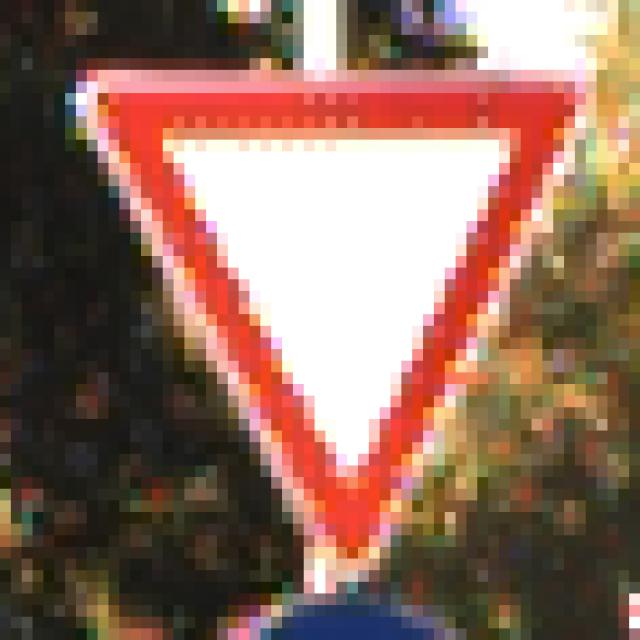Give Way: (55, 59, 587, 583)
